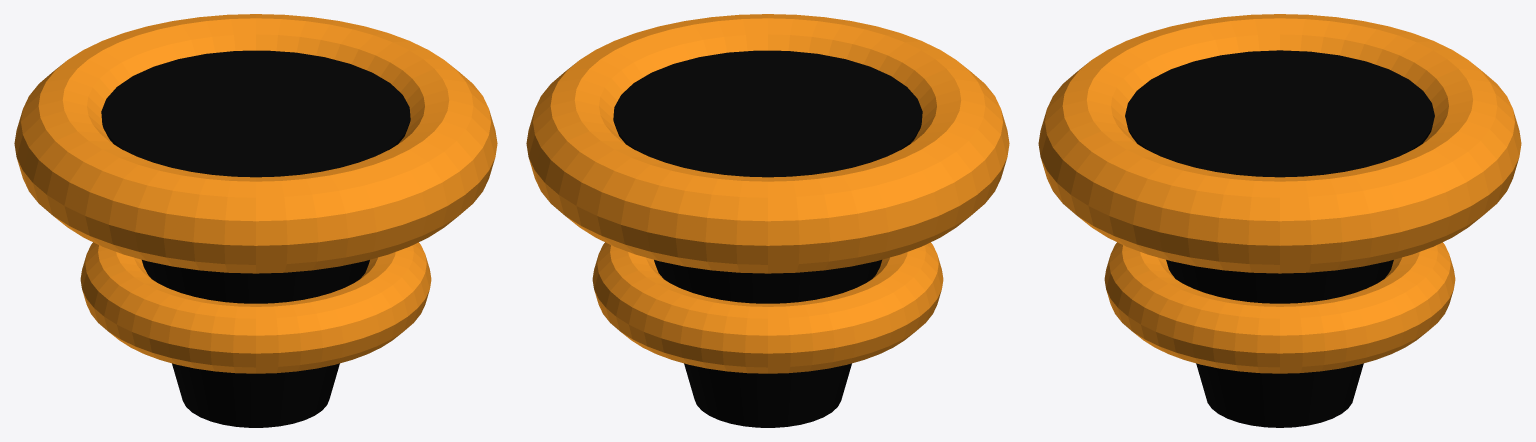
The model's file is Narancs torony felso.glb.
The picture shows the model from 3 angles, left to right: view 1: azimuth 30°, elevation 25°; view 2: azimuth 150°, elevation 25°; view 3: azimuth 270°, elevation 25°; orthographic projection.
Visible parts, largest first — view 1: Torus.006; view 2: Torus.006; view 3: Torus.006.
Part boxes in pixels (x1,y1,x2,y2): Torus.006: (14,14,497,427); Torus.006: (526,14,1009,427); Torus.006: (1038,14,1521,427).
Bounding box in the file's own units: 3.12 × 2.11 × 3.12.
